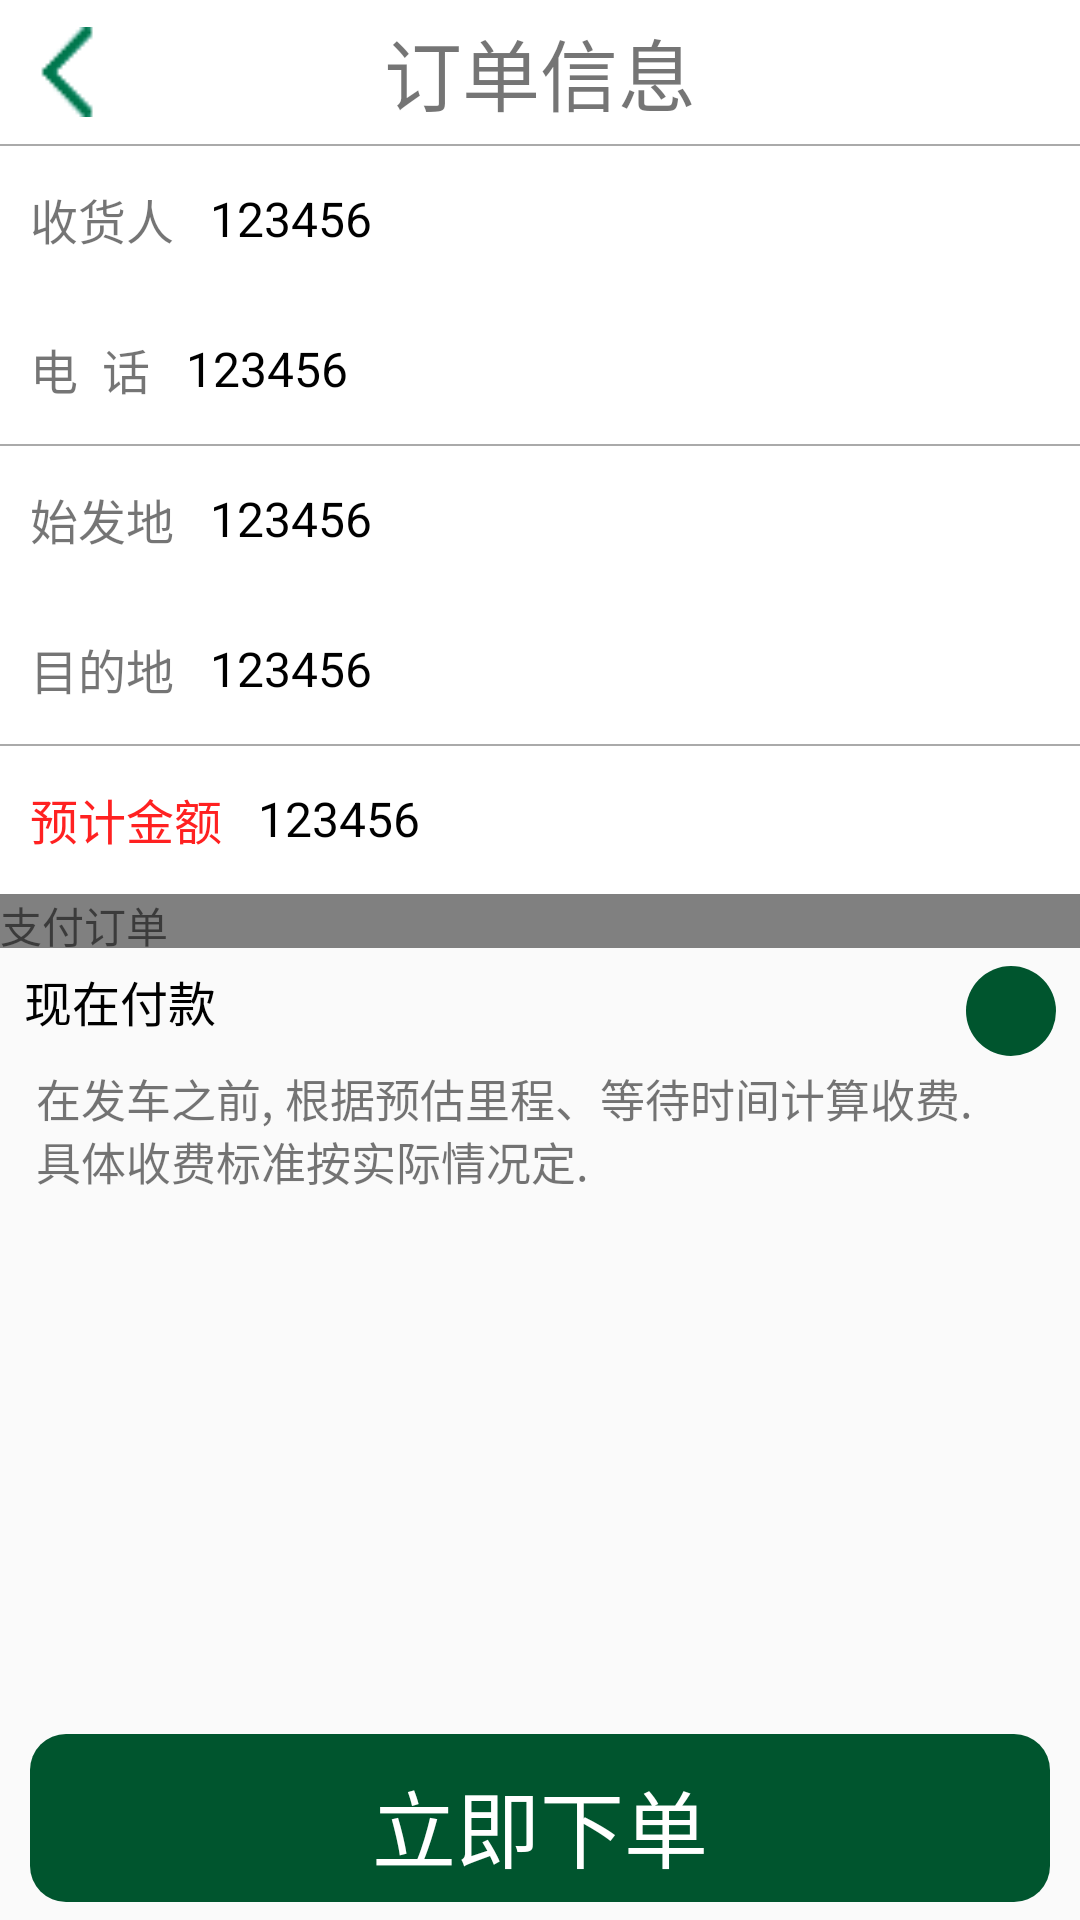

Point at icon controls on the screen. Image size 1080 x 1920, points as [x,y].
arro left: [67,72]
